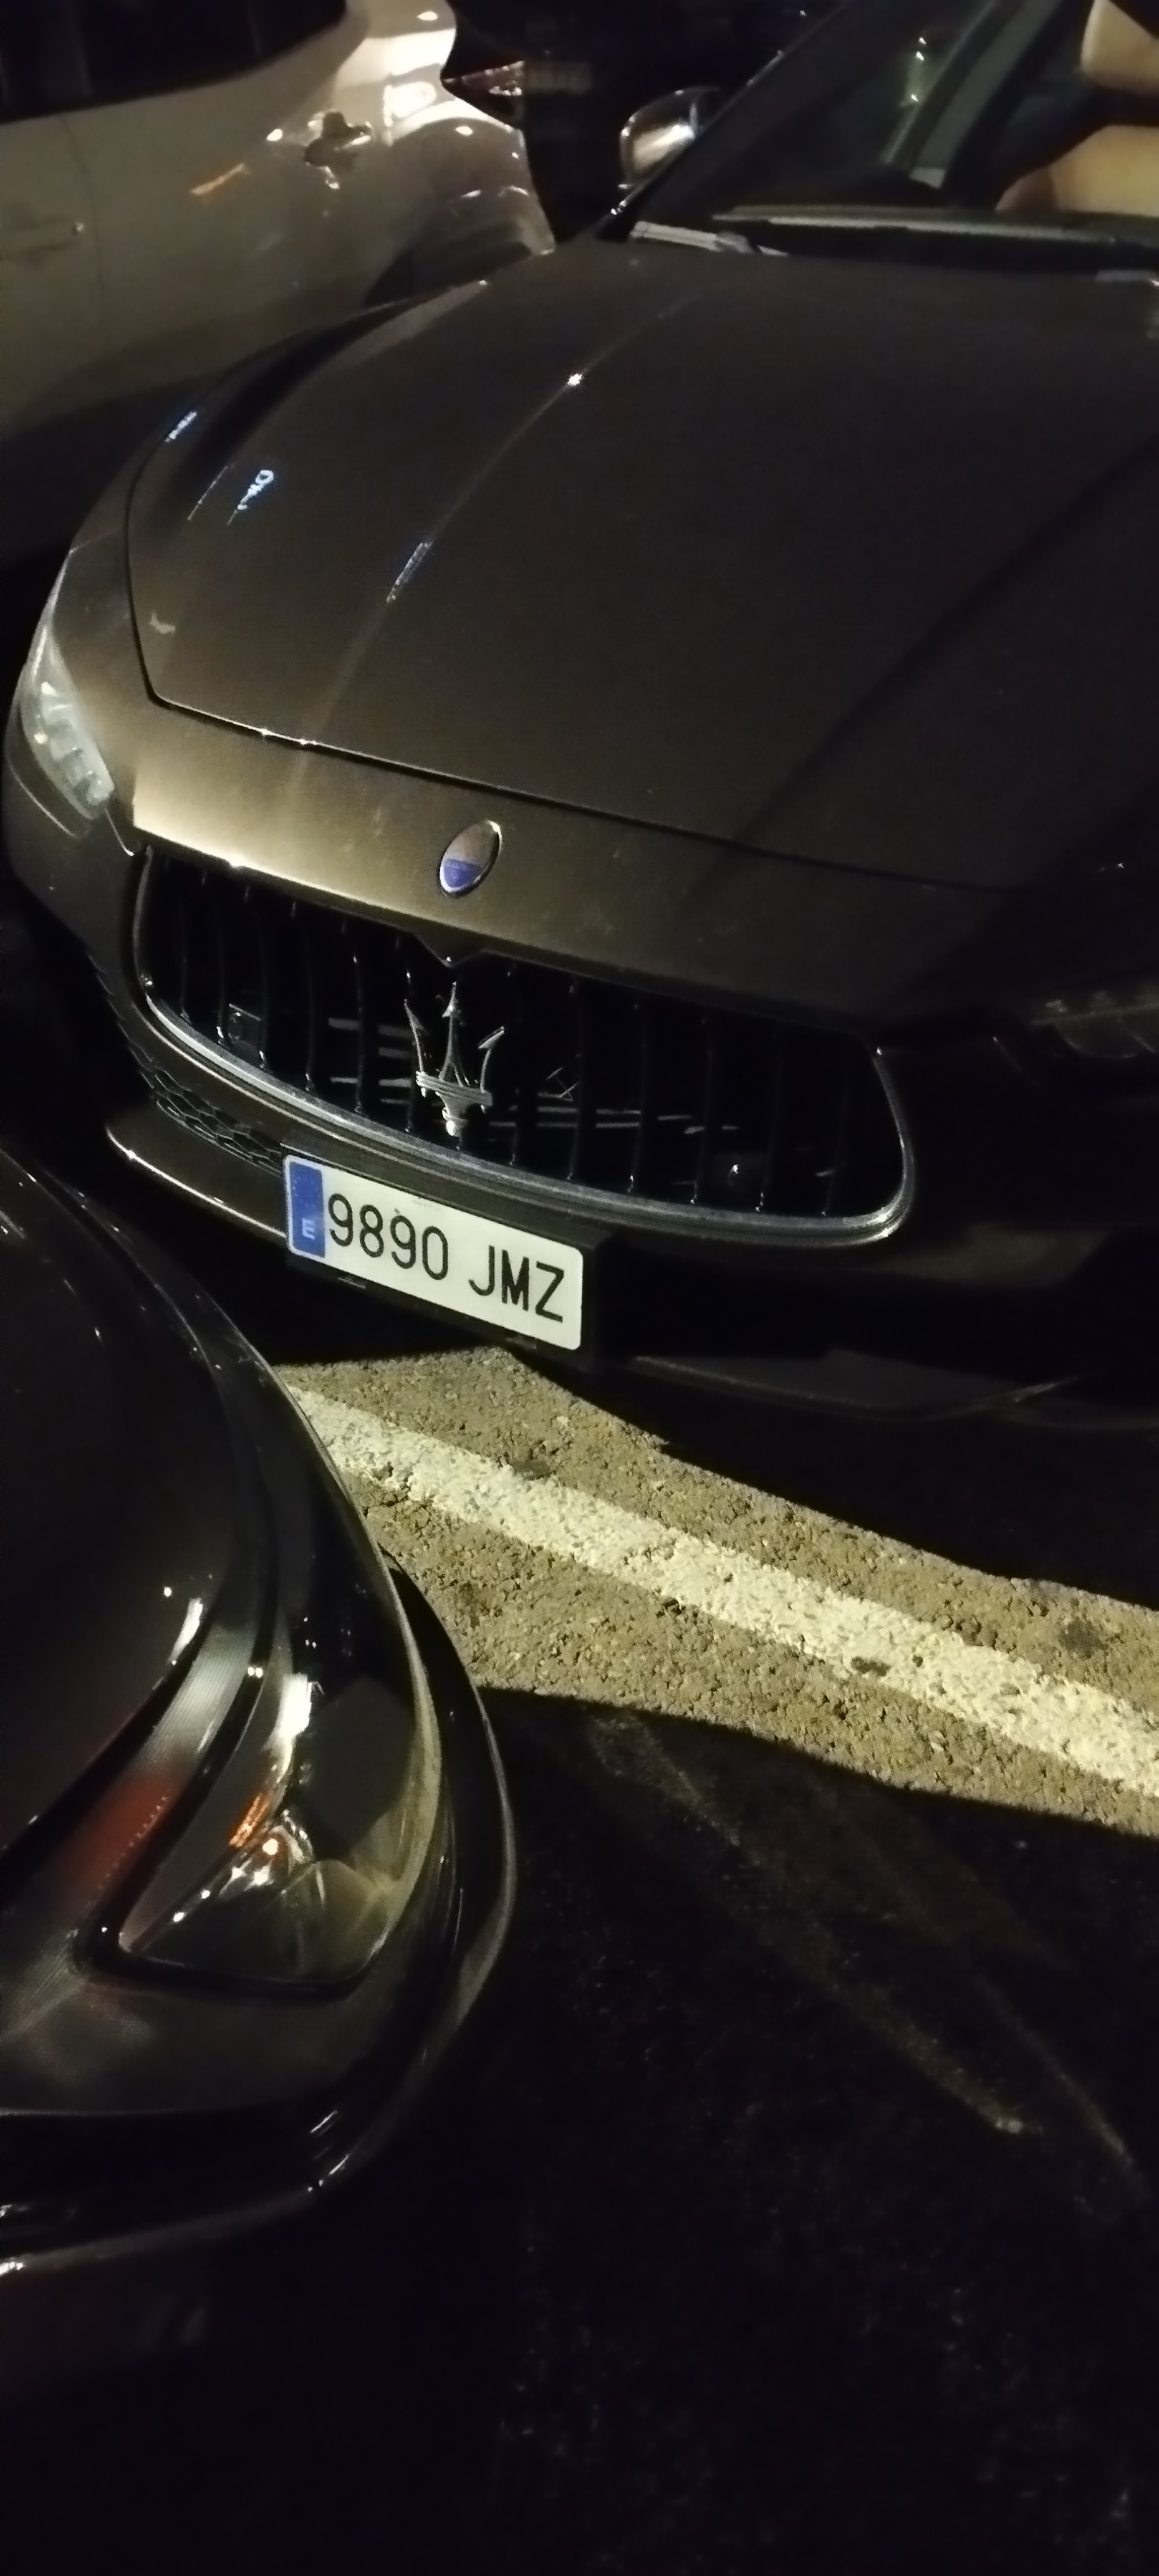Car: (3, 6, 1130, 1441)
Plate: (292, 1162, 606, 1273)
